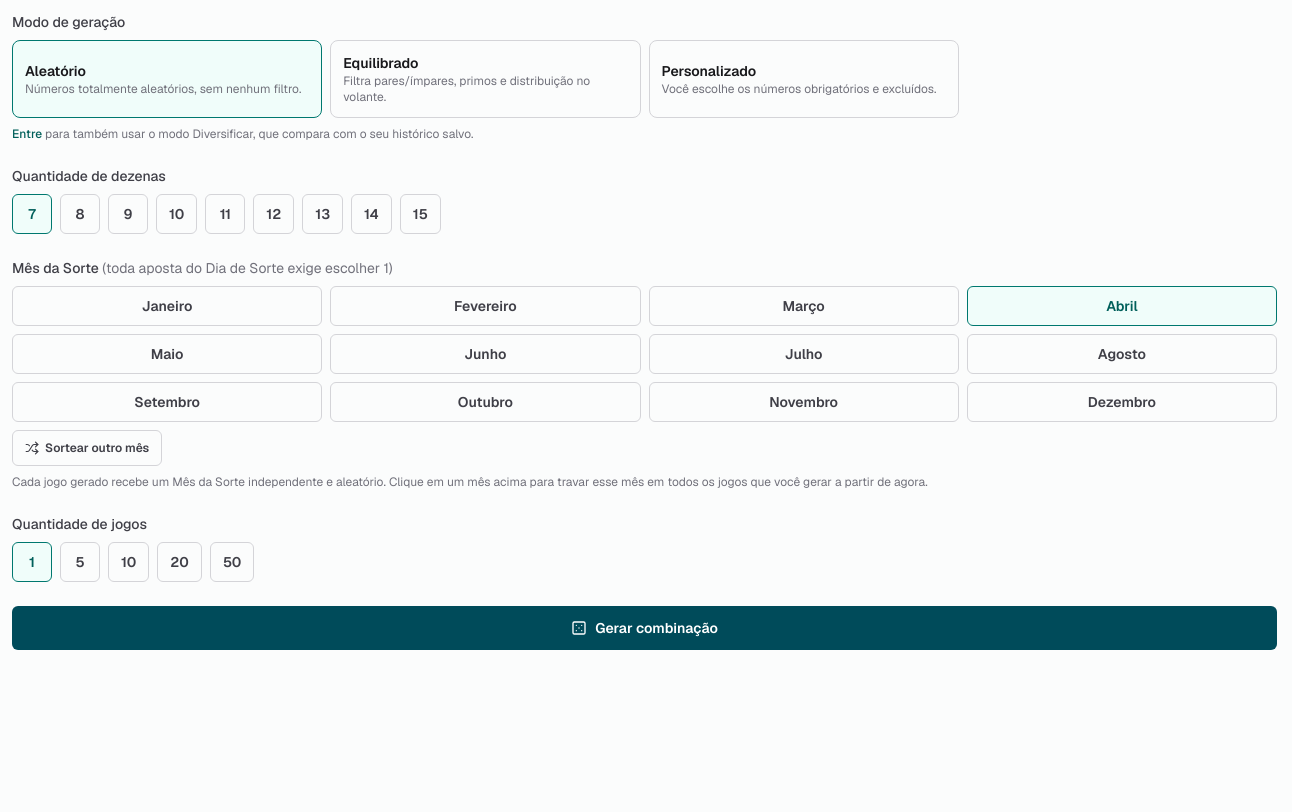
Scenario: DiaDeSorteGenerator › gera múltiplos jogos sem repetição e mostra os botões de copiar/baixar
Click the button "5" at (80, 562), box [60, 542, 100, 582]
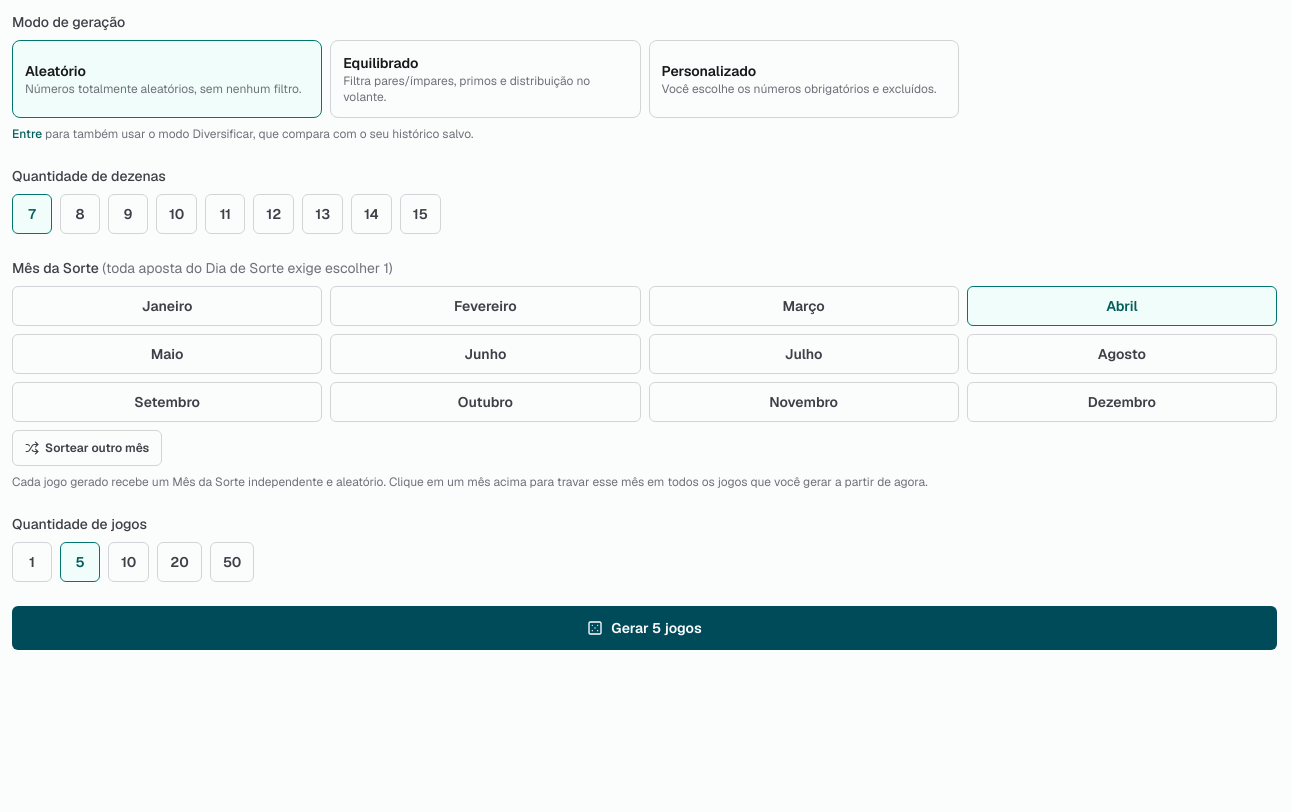
Click the button "Gerar 5 jogos" at (644, 628), box [12, 606, 1277, 650]
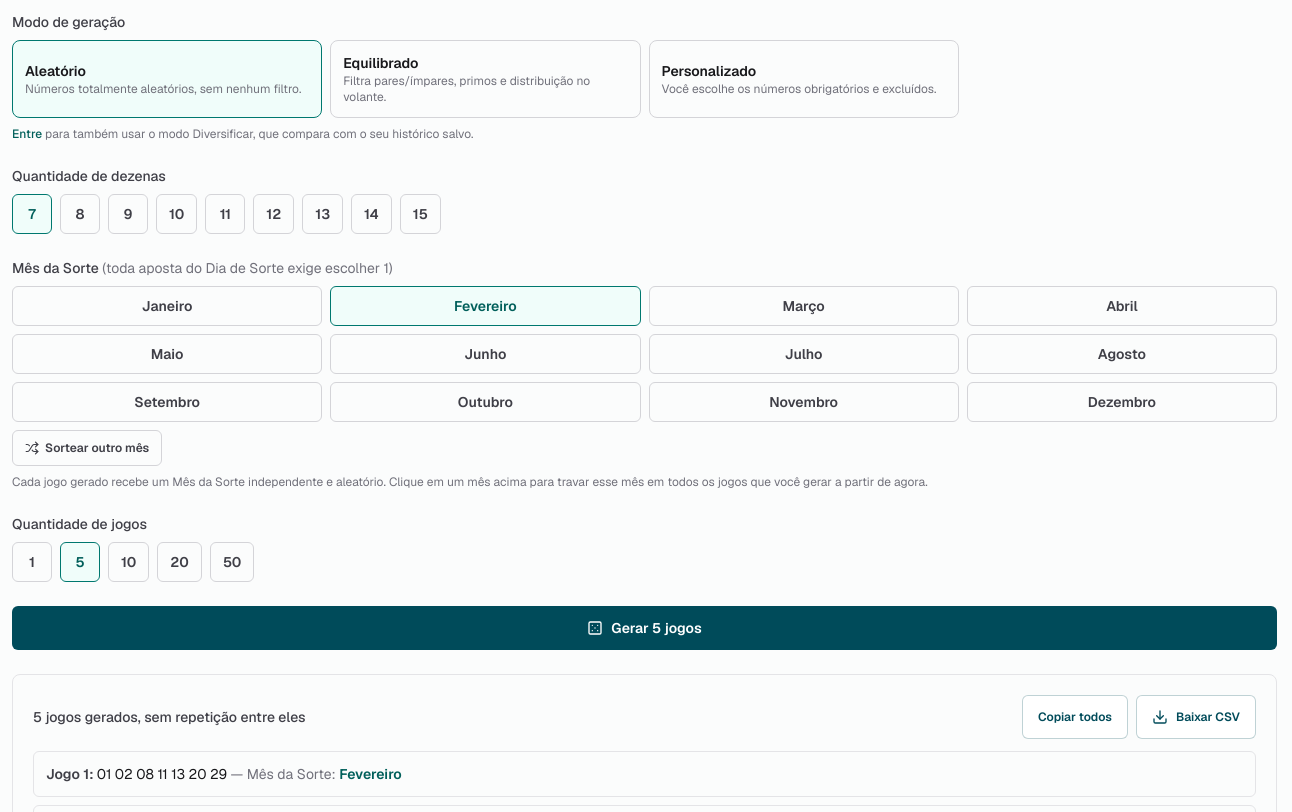
Expected: the text "5 jogos gerados, sem repetição entre eles" is shown, [33, 707, 306, 727]
Expected: the button "Copiar todos" is shown, [1022, 695, 1128, 739]
Expected: the button "Baixar CSV" is shown, [1136, 695, 1256, 739]
